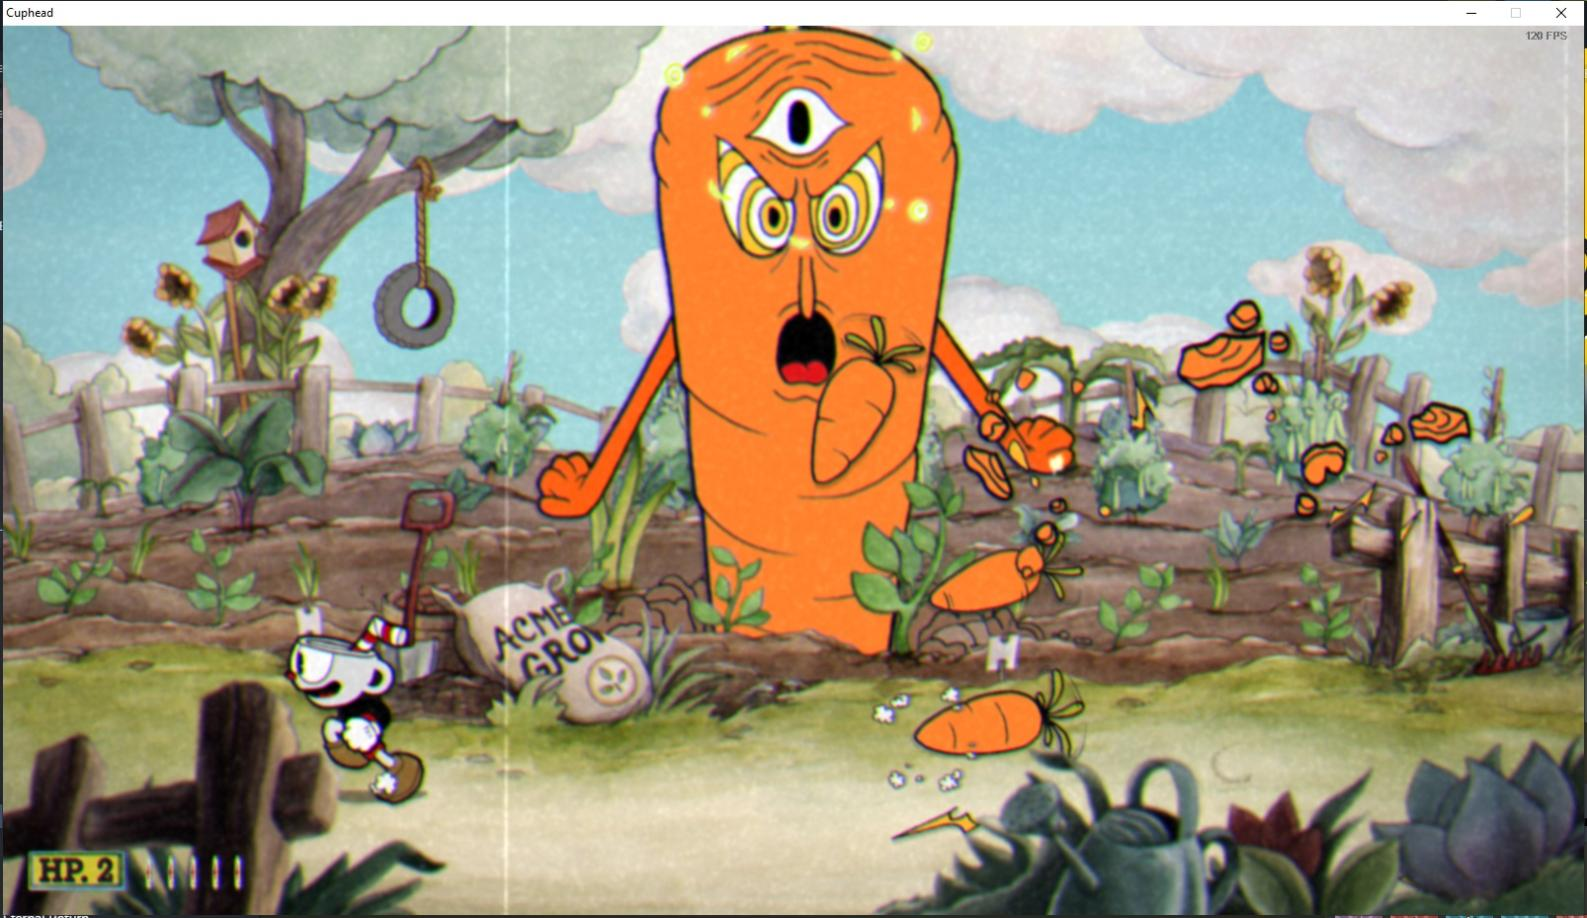carrot: (802, 312, 916, 498), (898, 662, 1087, 769), (892, 525, 1083, 618)
carrot_boss: (648, 30, 967, 656)
hp2: (90, 853, 122, 890)
player: (271, 607, 452, 810)
